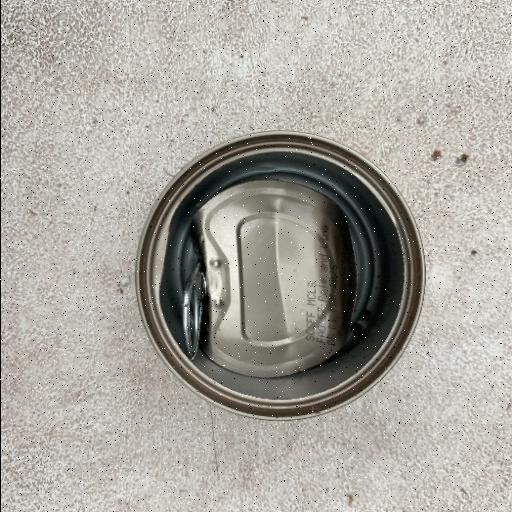Metal: (133, 129, 427, 422)
